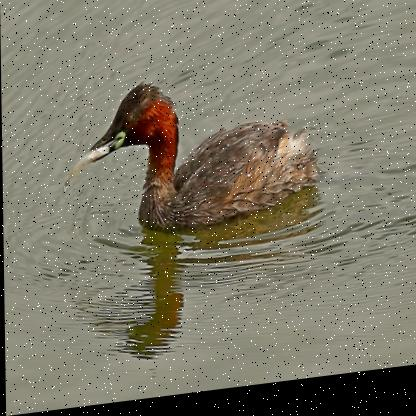Burung: (87, 70, 317, 244)
